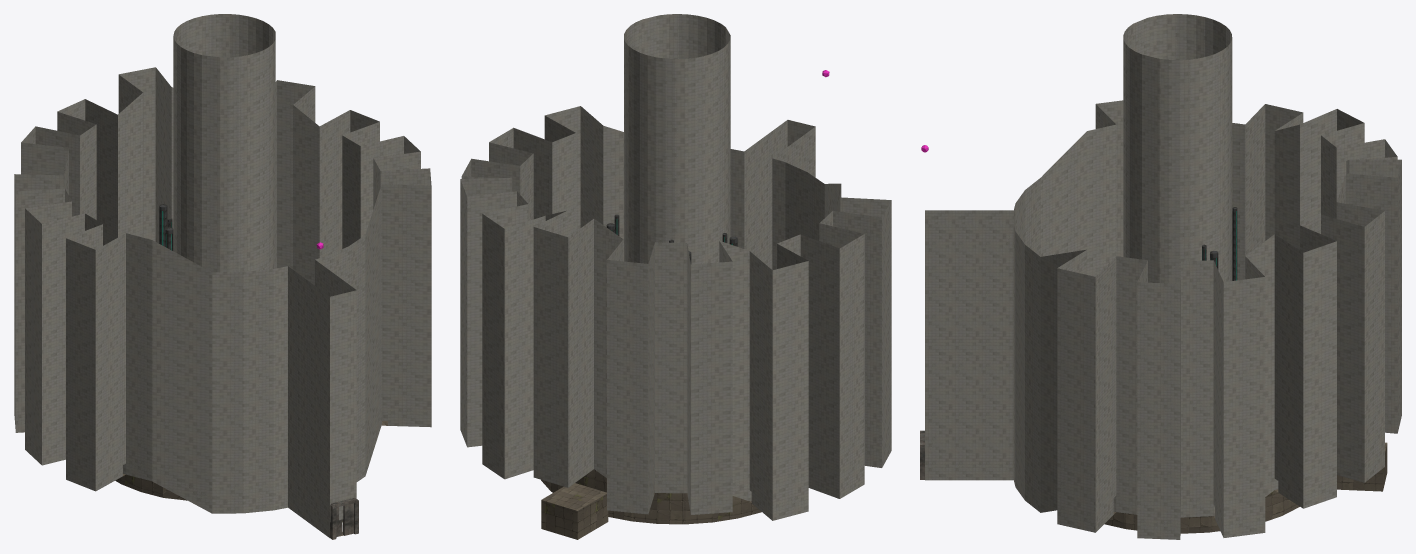
Rendered from Level_002.glb.
3 renders of one model, left to right at view 1: azimuth 30°, elevation 25°; view 2: azimuth 150°, elevation 25°; view 3: azimuth 270°, elevation 25°, orthographic. The views are drawn at different scales.
Parts seen in each view (by area): view 1: Circle.002-col, Circle-col, Cube.002-col; view 2: Circle.002-col, Circle-col; view 3: Circle.002-col, Circle-col.
Part boxes in pixels (x1=…): Circle.002-col: x1=14, y1=67, x2=431, y2=537; Circle-col: x1=115, y1=14, x2=387, y2=536; Cube.002-col: x1=330, y1=497, x2=358, y2=539; Circle.002-col: x1=460, y1=106, x2=891, y2=520; Circle-col: x1=541, y1=14, x2=761, y2=539; Circle.002-col: x1=925, y1=100, x2=1401, y2=539; Circle-col: x1=1104, y1=14, x2=1387, y2=533.
Bounding box in the file's own units: 104 × 114 × 113.
11 materials, 10 textured.
